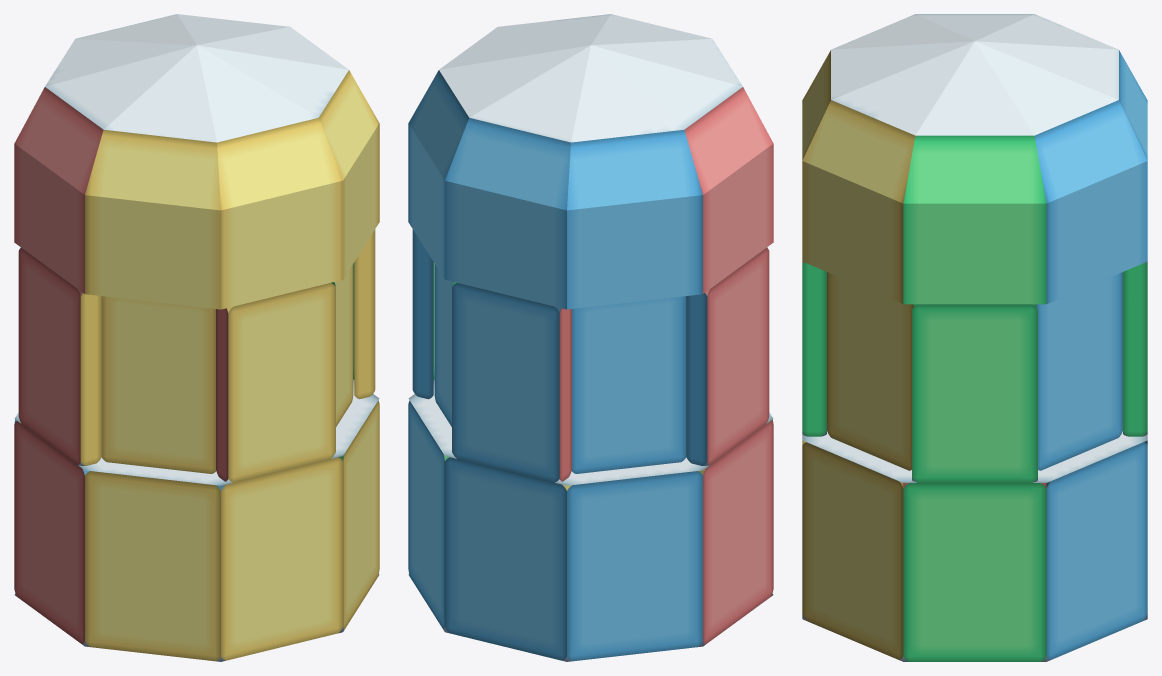
File: tank_s.obj
3 views of the same model, side by side, from view 1: azimuth 30°, elevation 25°; view 2: azimuth 150°, elevation 25°; view 3: azimuth 270°, elevation 25° (orthographic).
Parts seen in each view (by area): view 1: cap_t, cap_b, side_frame, body; view 2: cap_t, cap_b, side_frame, body; view 3: cap_t, cap_b, side_frame, body.
Part boxes in pixels (<box>): cap_t: <box>14,14,379,309</box>; cap_b: <box>14,379,379,661</box>; side_frame: <box>18,229,375,482</box>; body: <box>78,264,353,473</box>; cap_t: <box>408,14,773,309</box>; cap_b: <box>408,379,773,661</box>; side_frame: <box>412,229,769,482</box>; body: <box>434,264,709,473</box>; cap_t: <box>802,14,1147,304</box>; cap_b: <box>802,431,1147,661</box>; side_frame: <box>802,261,1147,482</box>; body: <box>827,272,1122,470</box>.
Size of the model in its own units: 0.875 by 1.53 by 0.875.
Materials: 1 (1 with a texture image).
